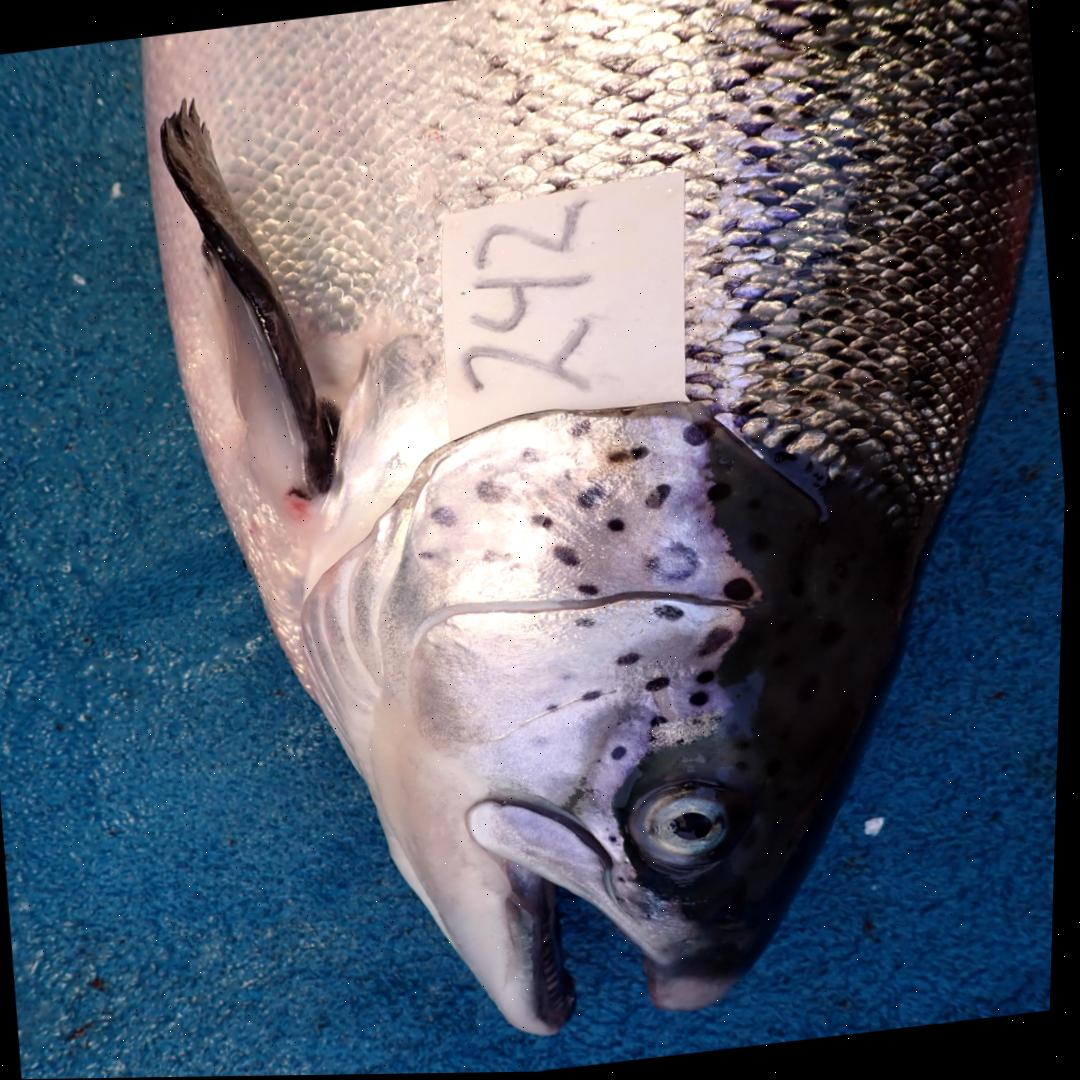spot: (648, 543, 704, 585), (702, 628, 737, 659), (479, 481, 512, 505), (568, 412, 596, 440), (685, 424, 717, 448), (581, 486, 610, 511), (610, 447, 651, 464), (727, 579, 757, 602), (649, 484, 675, 510), (555, 547, 583, 568), (692, 685, 715, 710), (658, 604, 688, 623), (485, 549, 518, 566), (434, 508, 459, 528), (710, 484, 734, 503), (532, 514, 556, 531), (524, 447, 545, 465), (649, 678, 673, 693), (621, 653, 644, 668), (699, 671, 720, 685), (420, 549, 444, 561), (609, 519, 627, 533), (585, 691, 606, 703), (691, 716, 711, 728), (582, 586, 603, 597), (616, 747, 631, 762), (655, 716, 673, 728), (579, 619, 600, 628), (653, 733, 660, 743), (566, 675, 576, 682), (551, 705, 562, 711), (680, 739, 689, 745)
